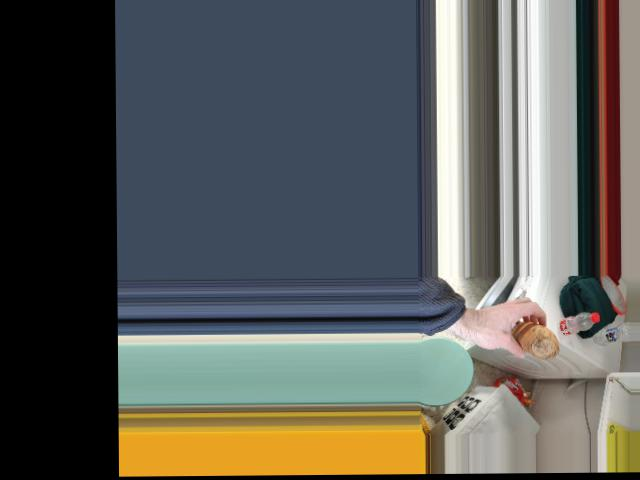sweet_potato: (510, 318, 559, 359)
